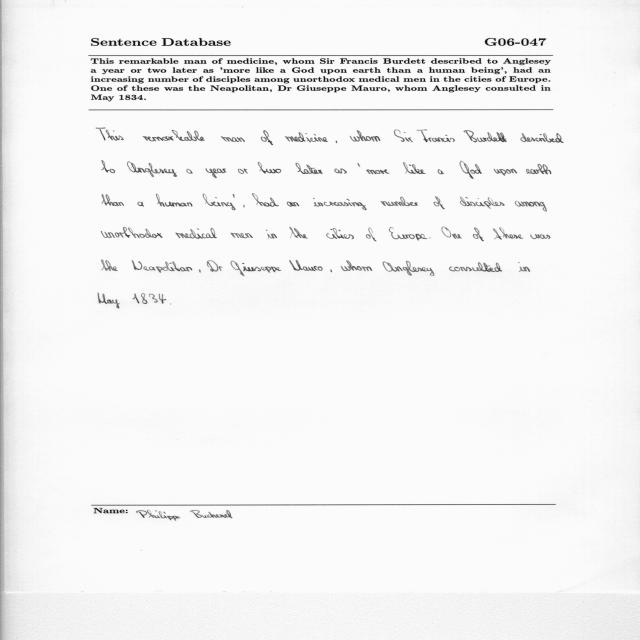word: (127, 161, 177, 177), (132, 260, 192, 273), (383, 261, 434, 276), (231, 261, 281, 276), (143, 130, 205, 141), (101, 227, 163, 238), (313, 198, 367, 210), (203, 194, 236, 211), (389, 227, 427, 241), (449, 262, 502, 272), (460, 197, 504, 209), (464, 130, 507, 142), (156, 194, 193, 207), (417, 130, 455, 142), (176, 228, 217, 239), (520, 133, 564, 143), (285, 133, 328, 143), (460, 161, 482, 179), (493, 227, 523, 240), (252, 193, 279, 207), (289, 260, 323, 271), (350, 130, 381, 142), (96, 128, 124, 141), (515, 201, 547, 212), (98, 293, 120, 309), (341, 261, 372, 272), (381, 197, 418, 206), (326, 228, 354, 239), (296, 163, 323, 174), (132, 293, 158, 304), (258, 162, 281, 174), (403, 162, 426, 174), (102, 194, 124, 206), (526, 164, 552, 174), (441, 227, 462, 239), (394, 130, 413, 142), (206, 169, 227, 179), (289, 227, 308, 238), (261, 130, 273, 145), (207, 260, 222, 272), (102, 260, 118, 271), (102, 161, 115, 174), (494, 169, 517, 176), (473, 228, 484, 242), (221, 136, 245, 142), (434, 196, 445, 209), (366, 228, 376, 242), (231, 233, 253, 239), (366, 170, 390, 175), (518, 262, 530, 272), (266, 230, 277, 240), (531, 234, 551, 239), (159, 294, 166, 304), (334, 169, 347, 174), (238, 168, 248, 174), (287, 202, 299, 207), (137, 202, 144, 207), (187, 169, 193, 174), (438, 170, 444, 175), (358, 163, 361, 167), (233, 194, 235, 198), (199, 269, 201, 273), (243, 205, 245, 208), (330, 270, 332, 273), (336, 141, 337, 143), (429, 238, 431, 239)
